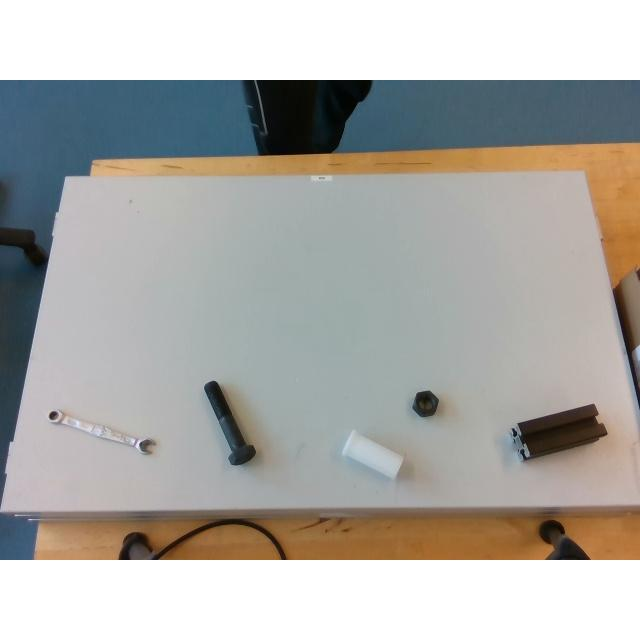M20: (412, 391, 438, 417)
M20_100: (204, 381, 254, 465)
S40_40_B: (512, 404, 606, 460)
Spacer: (342, 430, 402, 478)
Wrench: (47, 410, 155, 454)
